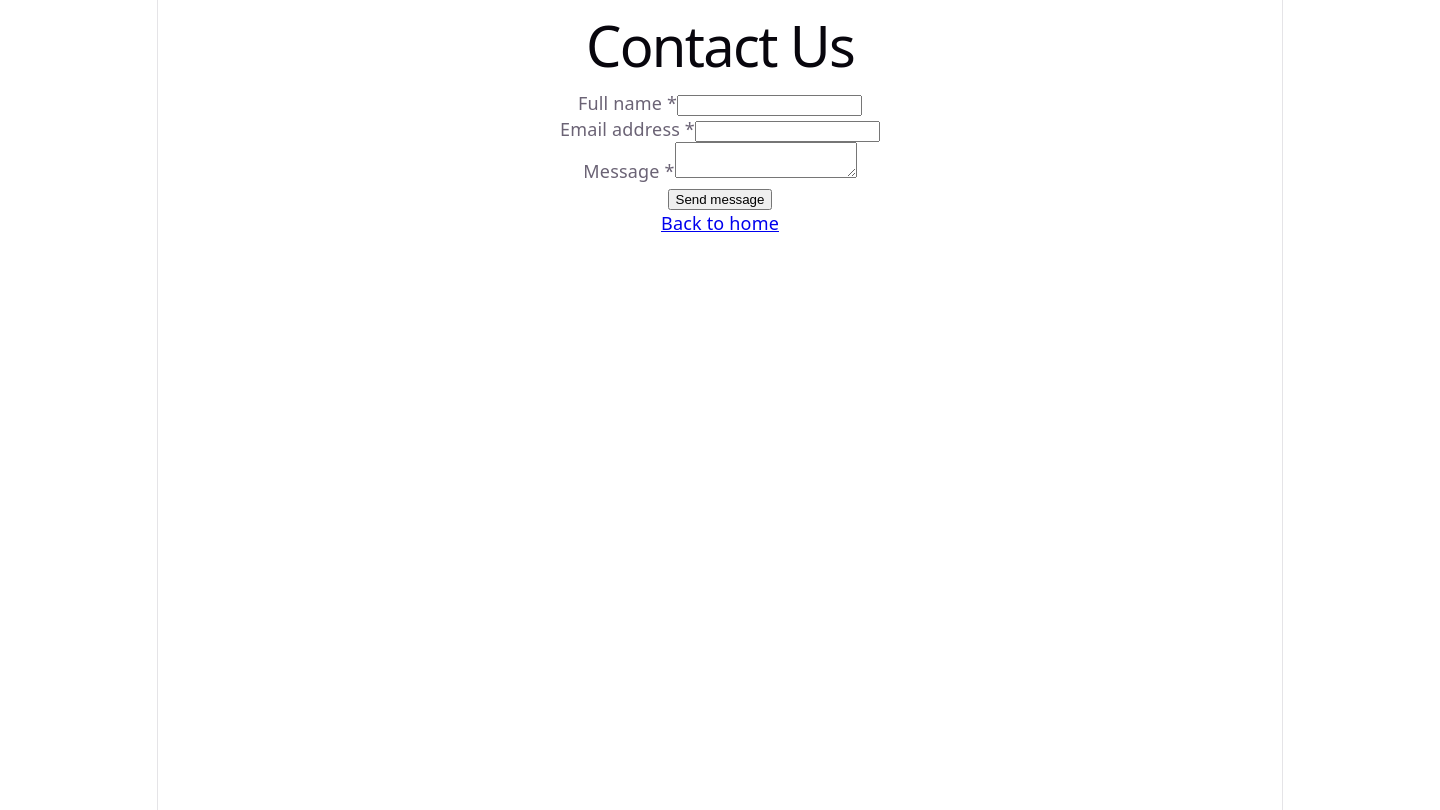
Scenario: AC4: generic error response shows banner and preserves form values › happy path — renders error banner and keeps field values after Network failure
Step 1. Type "Alice Smith" into the field labelled "Full name *" → (770, 106), box [677,95,862,116]
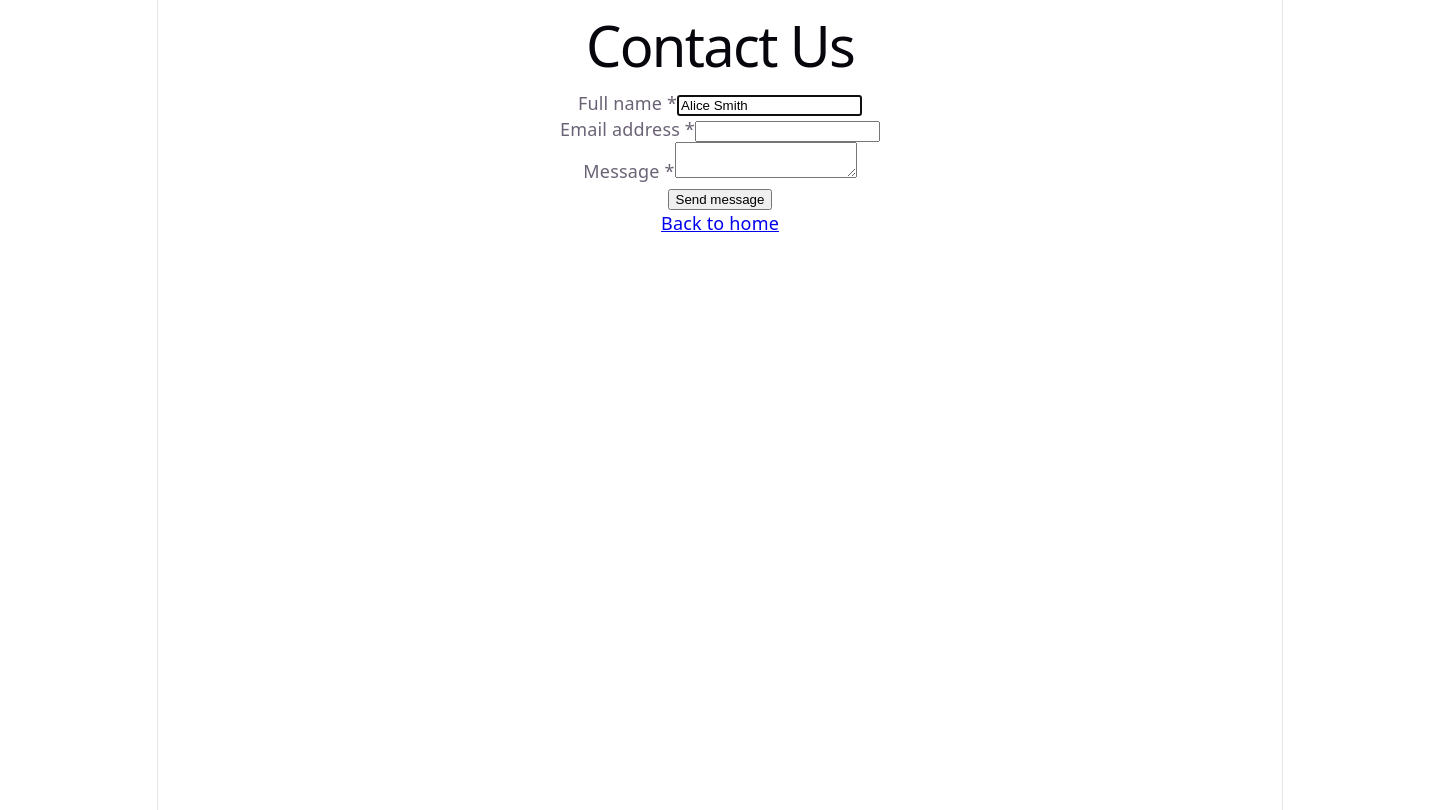
Step 2. Type "alice@example.com" into the field labelled "Email address *" → (788, 132), box [695,121,880,142]
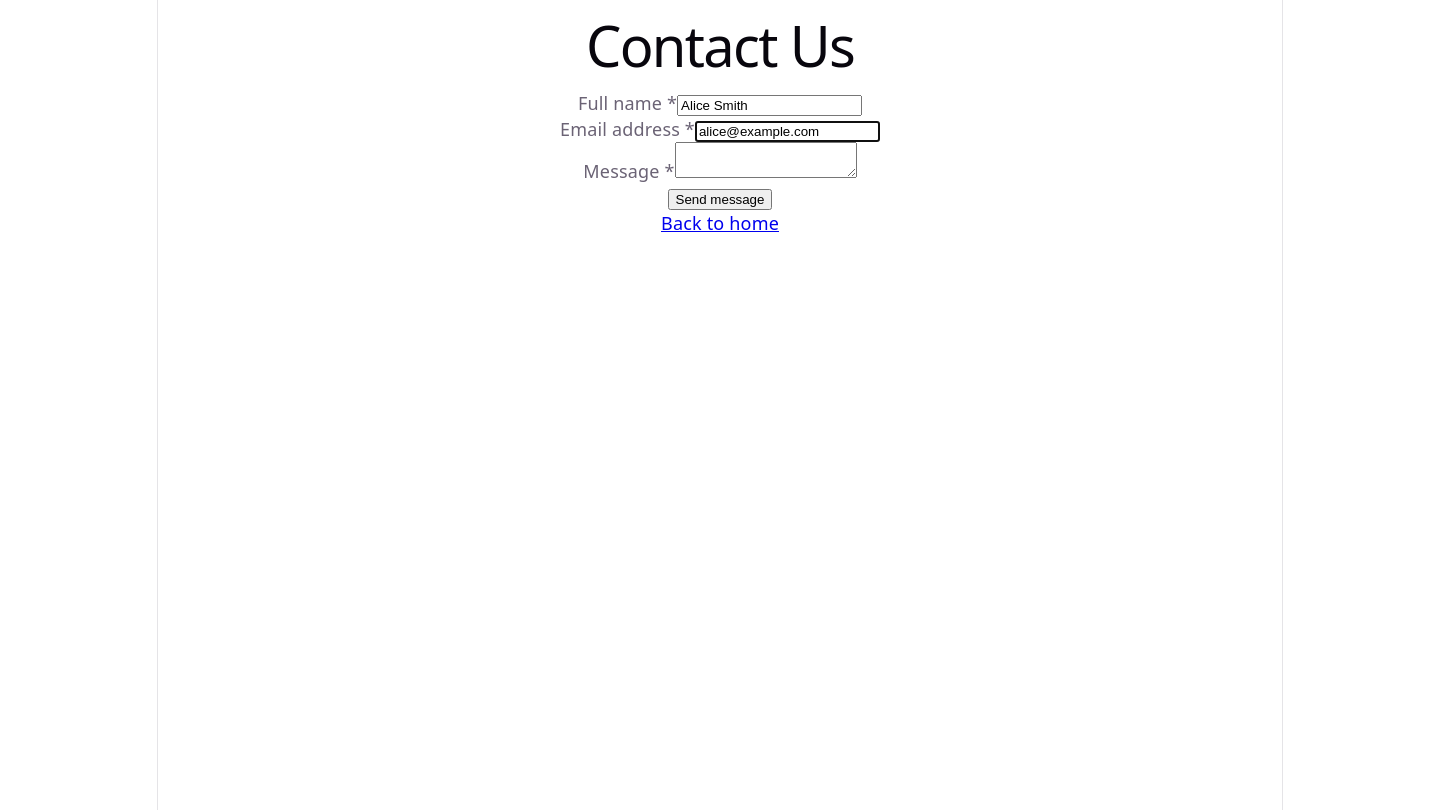
Step 3. Type "Hello there" into the text box labelled "Message *" → (766, 160), box [675,142,857,178]
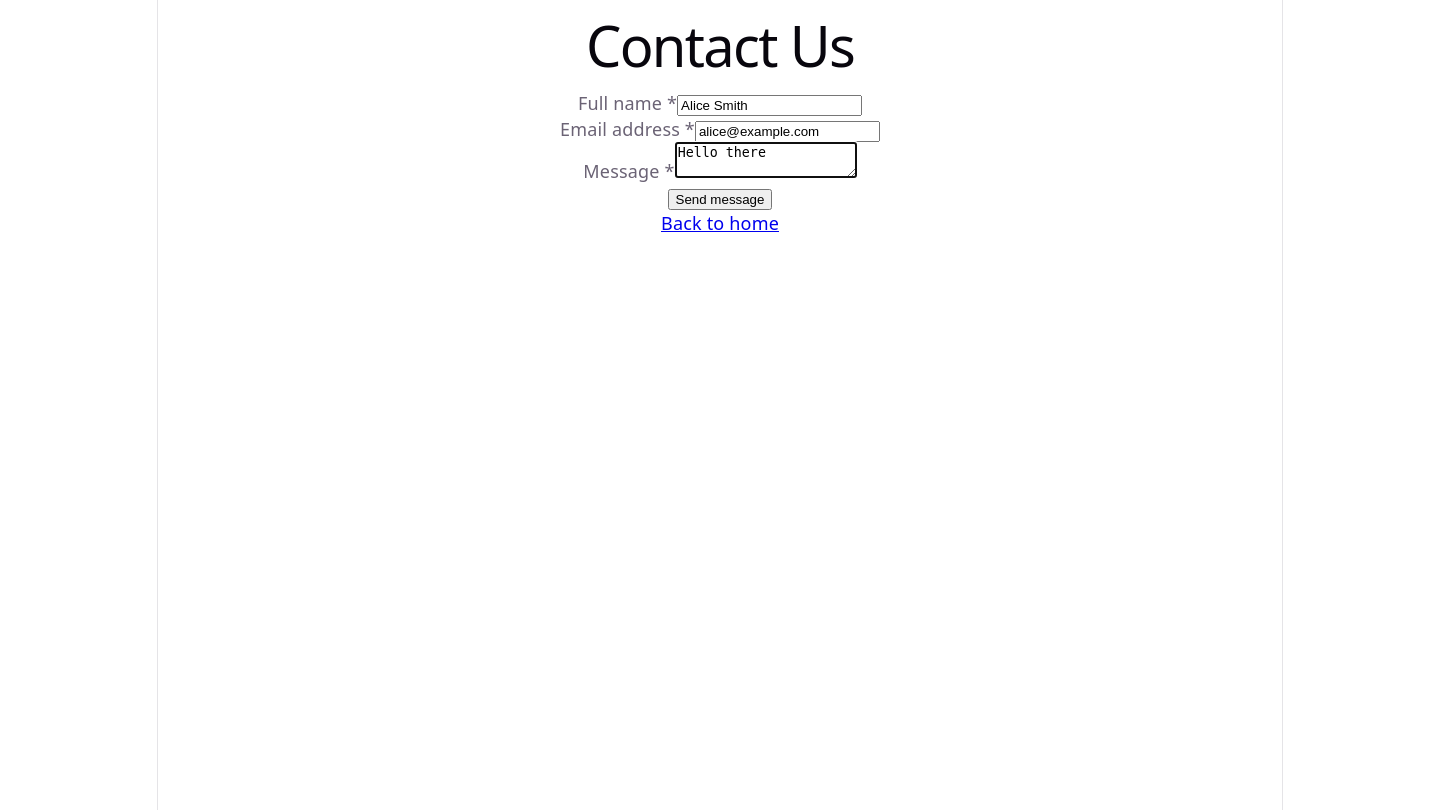
Step 4. Click the button "Send message" → (720, 200), box [668,189,772,210]
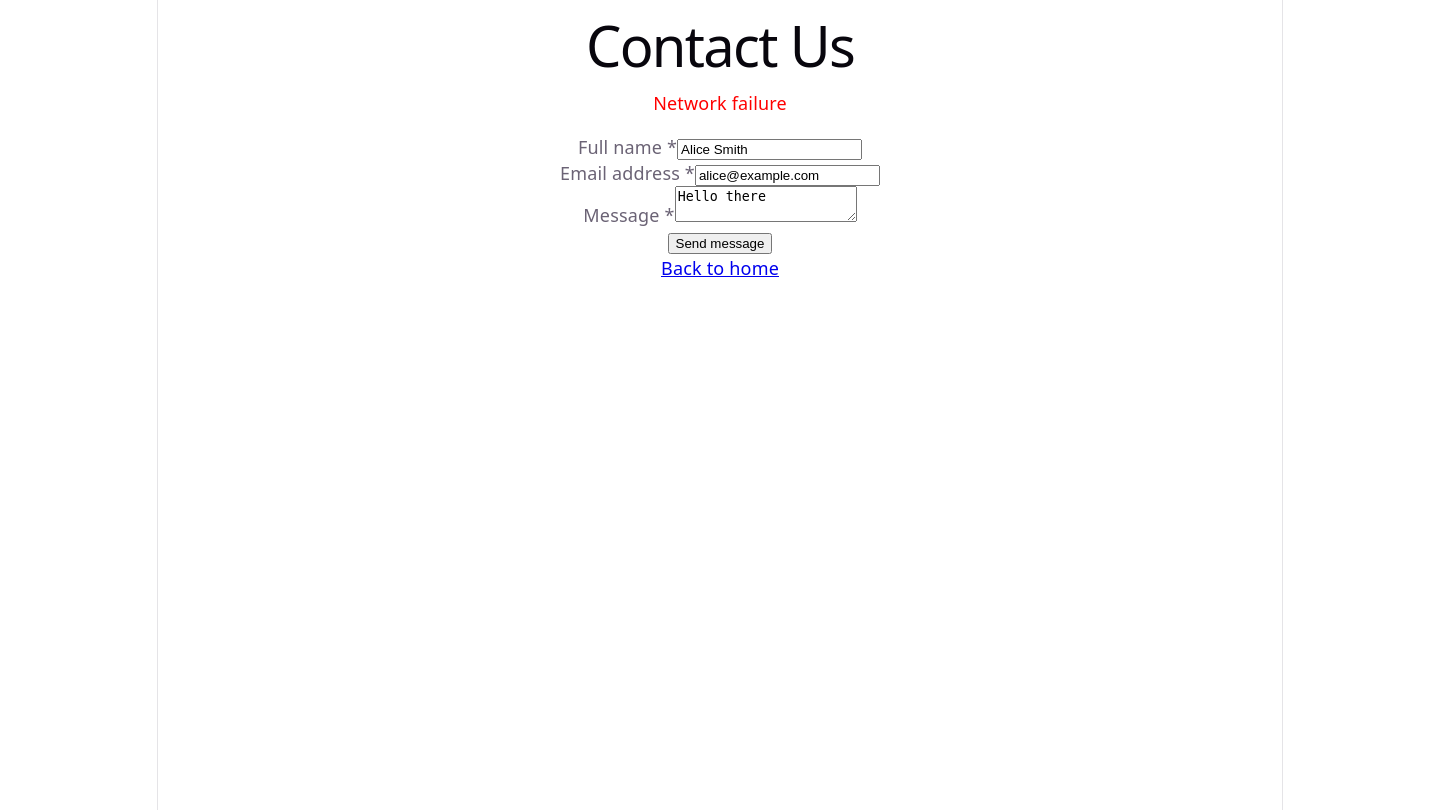
Check: the message reads "Network failure", box [653,91,787,115]
